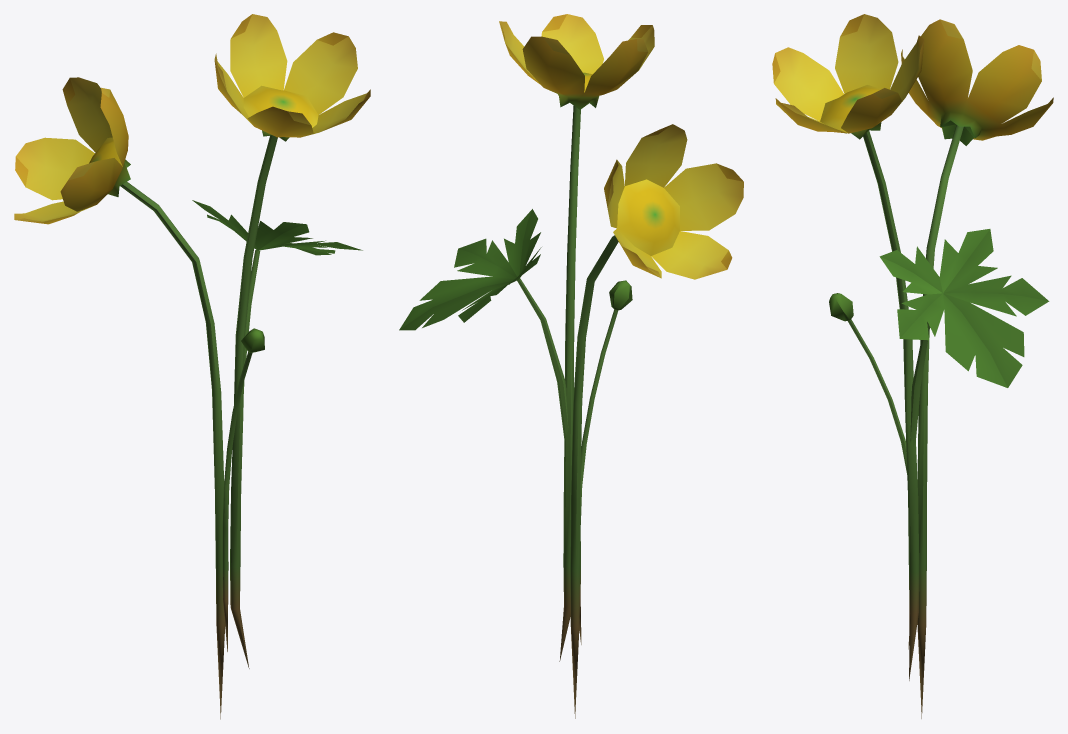
3 renders of one model, left to right at view 1: azimuth 30°, elevation 25°; view 2: azimuth 150°, elevation 25°; view 3: azimuth 270°, elevation 25°, orthographic. The views are drawn at different scales.
Parts seen in each view (by area): view 1: base.516; view 2: base.516; view 3: base.516.
Part boxes in pixels (<box>): base.516: <box>14,14,370,719</box>; base.516: <box>399,14,743,718</box>; base.516: <box>772,14,1053,718</box>.
Size of the model in its own units: 0.2408 by 0.5 by 0.1829.
